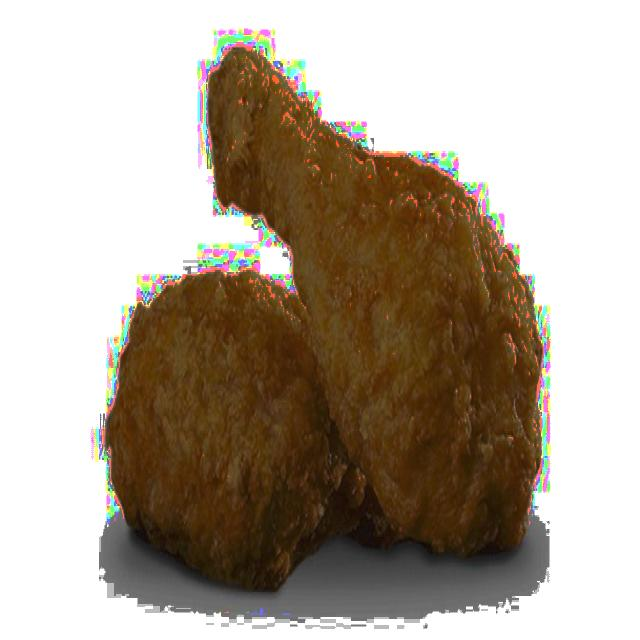fried_chicken: (205, 32, 555, 576), (109, 270, 468, 592)
